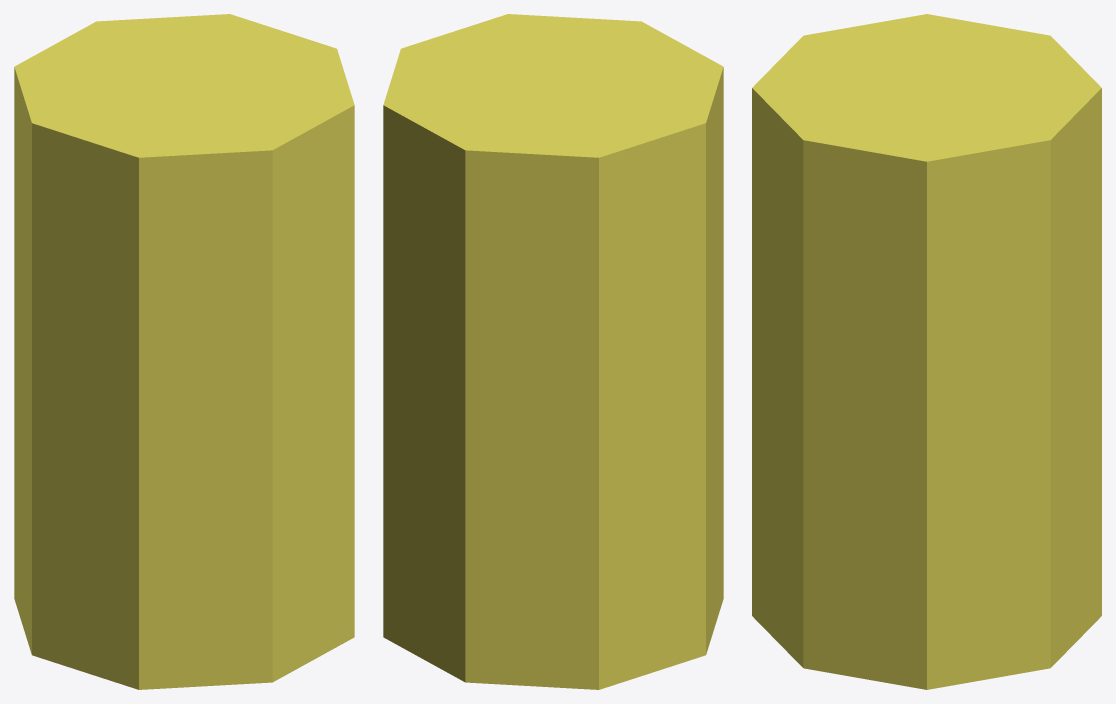
The model's file is arrow.fbx.
3 views of the same model, side by side, from view 1: azimuth 30°, elevation 25°; view 2: azimuth 150°, elevation 25°; view 3: azimuth 270°, elevation 25° (orthographic).
Parts seen in each view (by area): view 1: Cylinder; view 2: Cylinder; view 3: Cylinder.
Boxes of the visible parts, x1,y1,x2,y2 form: Cylinder: (14,14,354,689); Cylinder: (383,14,723,689); Cylinder: (752,14,1101,689).
Size of the model in its own units: 60 by 100 by 60.
